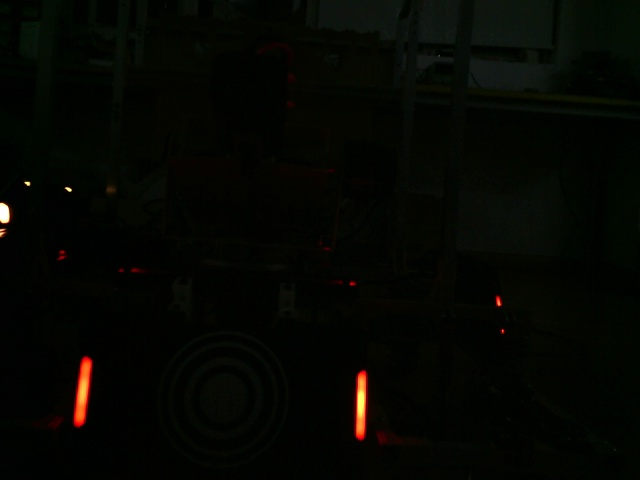lamp: (72, 354, 93, 428), (354, 368, 368, 442)
